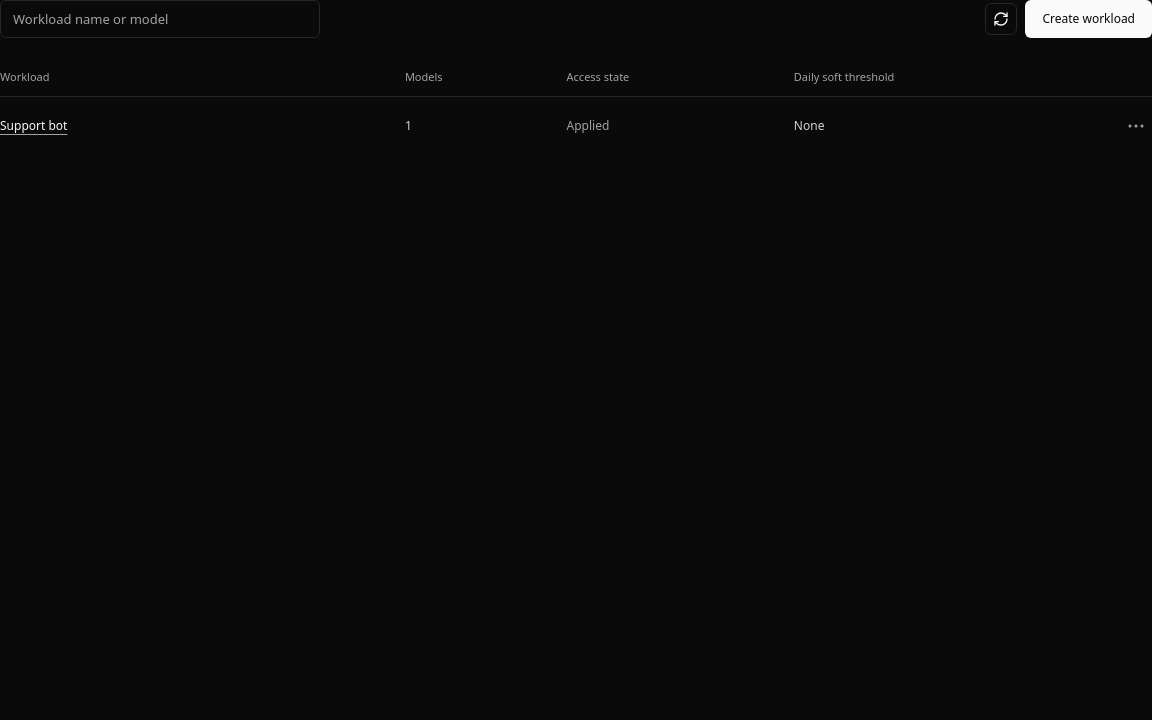
Test case: Workload model access › sends the observed revision and refreshes a conflicting edit
The image size is (1152, 720).
What coordinates should you click on to do the following:
click the button with aria-label "Open Support bot"
I would click on:
 (34, 126)
Its box is [0,116,67,135].
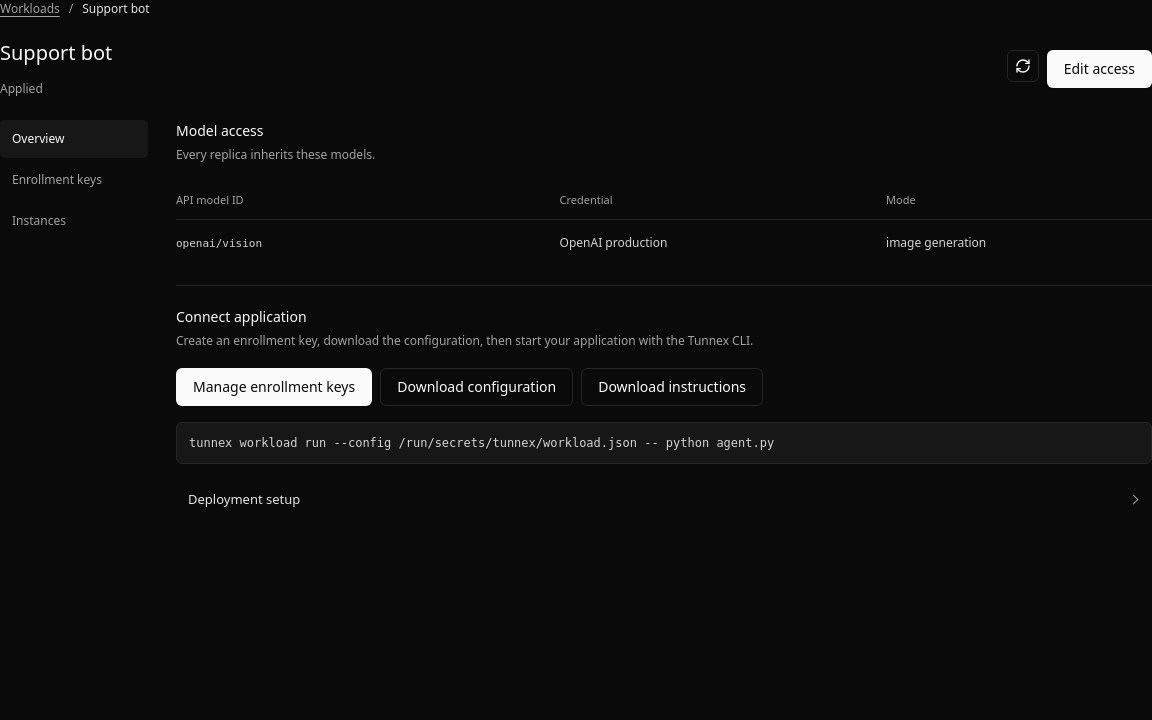
Expected: the button named "Refresh workload" is enabled, [1007,50,1039,82]
What coordinates should you click on to do the following:
click the button "Edit access"
I would click on:
 (1099, 69)
Its box is [1047,50,1151,88].
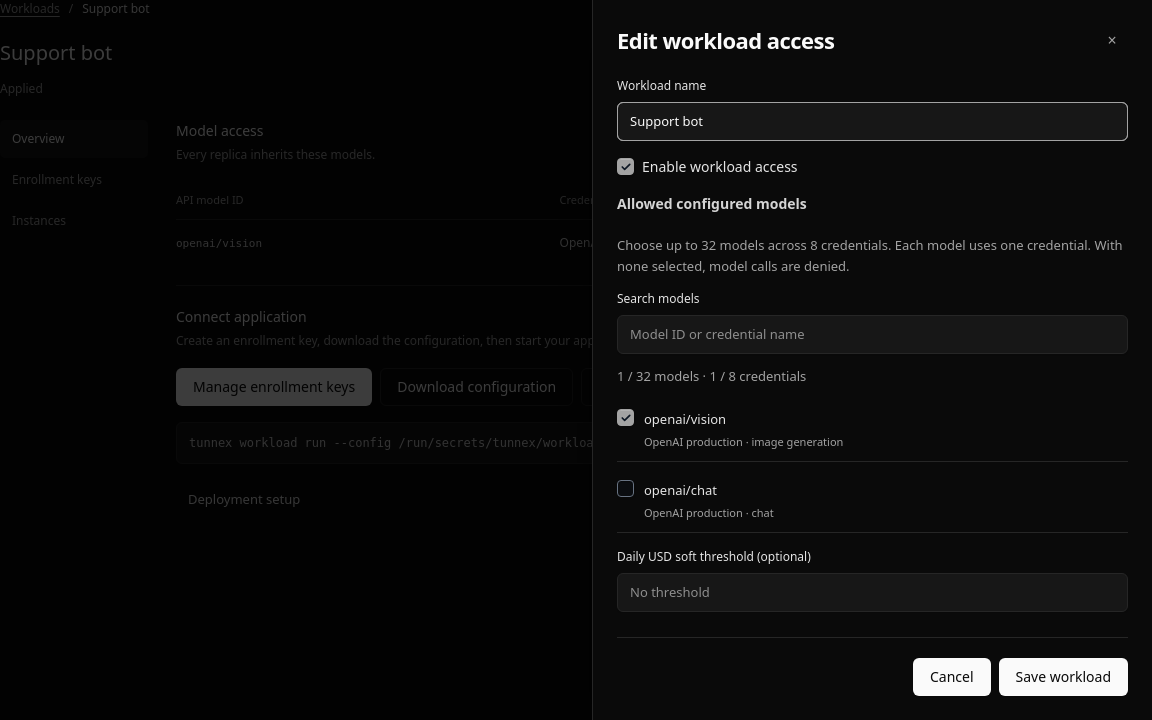
What coordinates should you click on to do the following:
click the checkbox labelled "Enable workload access"
I would click on:
 (626, 167)
Its box is [617,158,634,175].
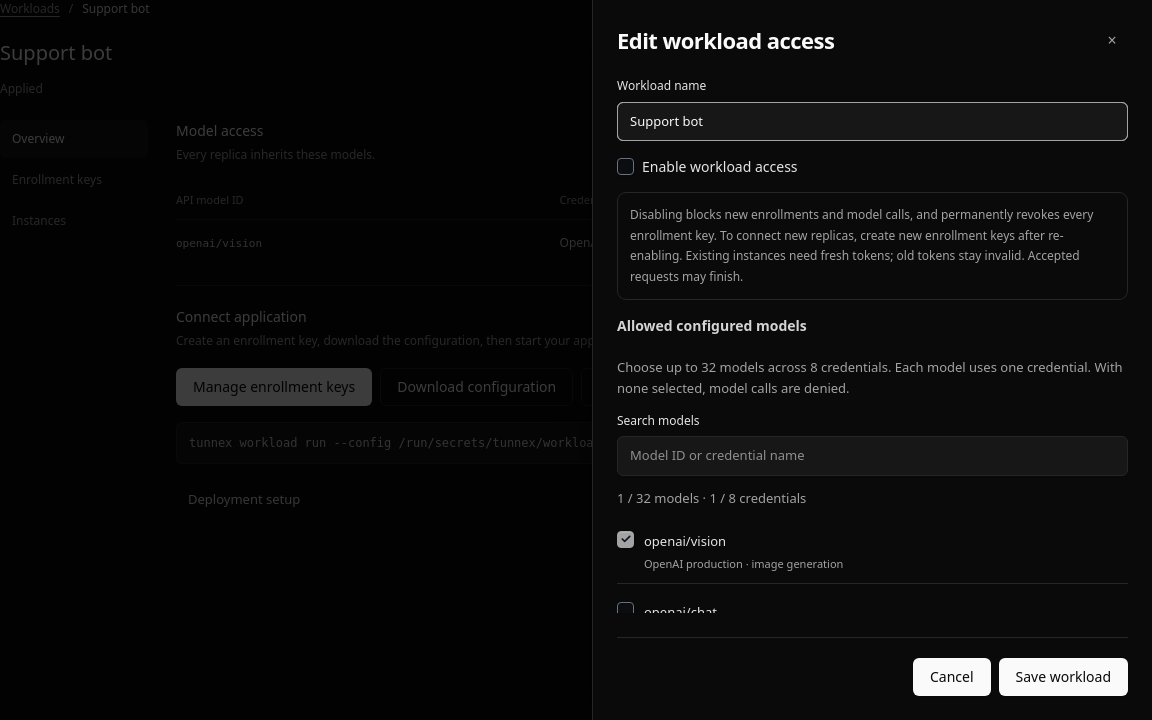
Now the text "permanently revokes every enrollment key" is shown, box [630,206,1093,284]
What coordinates should you click on to do the following:
click the button "Save workload"
I would click on:
 (1063, 677)
Its box is [998,658,1128,696].
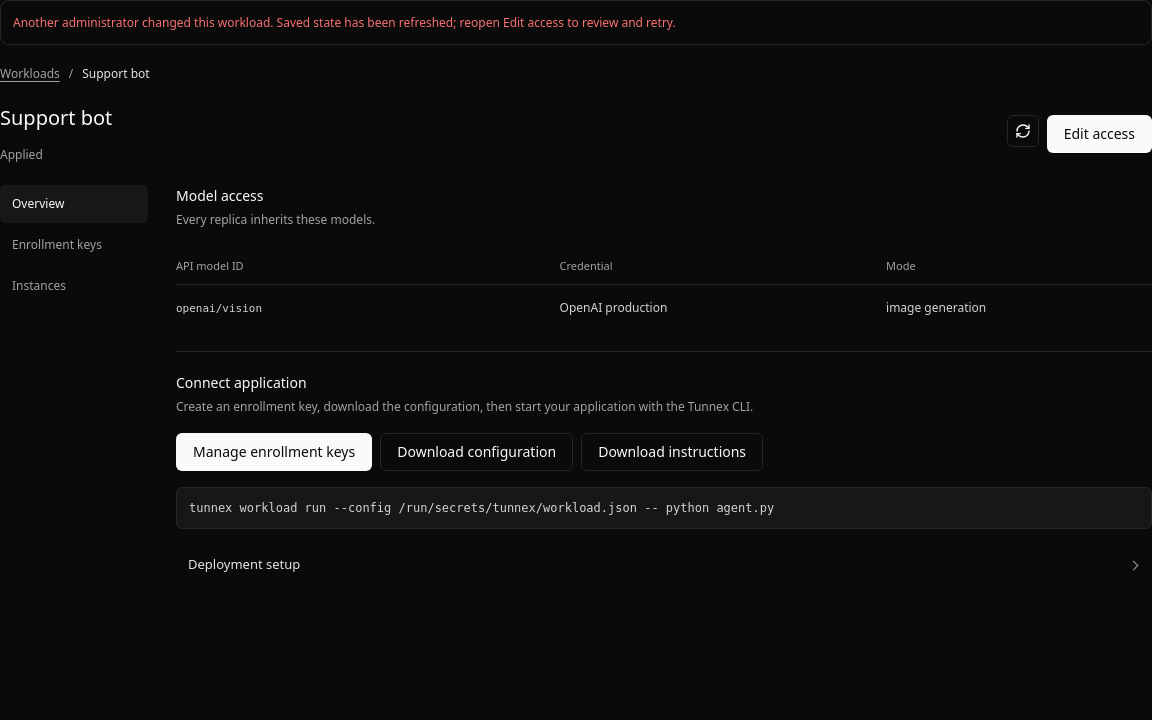
Now the text "Another administrator changed this workload" is shown, box [13,14,676,31]
Now the dialog is gone
